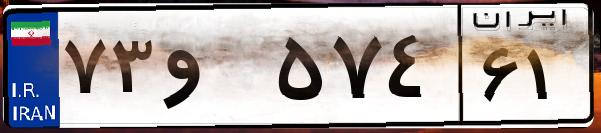1: (525, 38, 570, 115)
3: (110, 28, 158, 98)
4: (385, 28, 445, 110)
5: (270, 28, 330, 110)
6: (475, 38, 525, 113)
7: (330, 28, 385, 110), (57, 26, 110, 100)
و: (158, 20, 270, 120)
